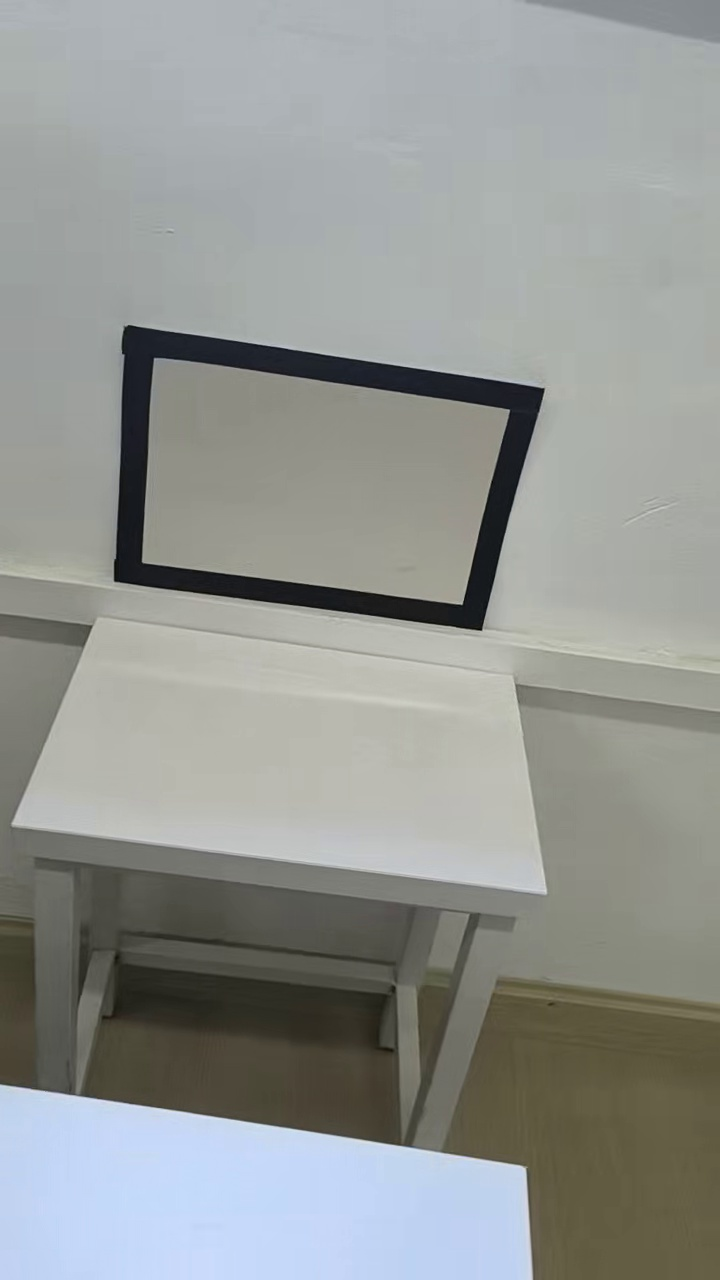board: (114, 327, 543, 634)
